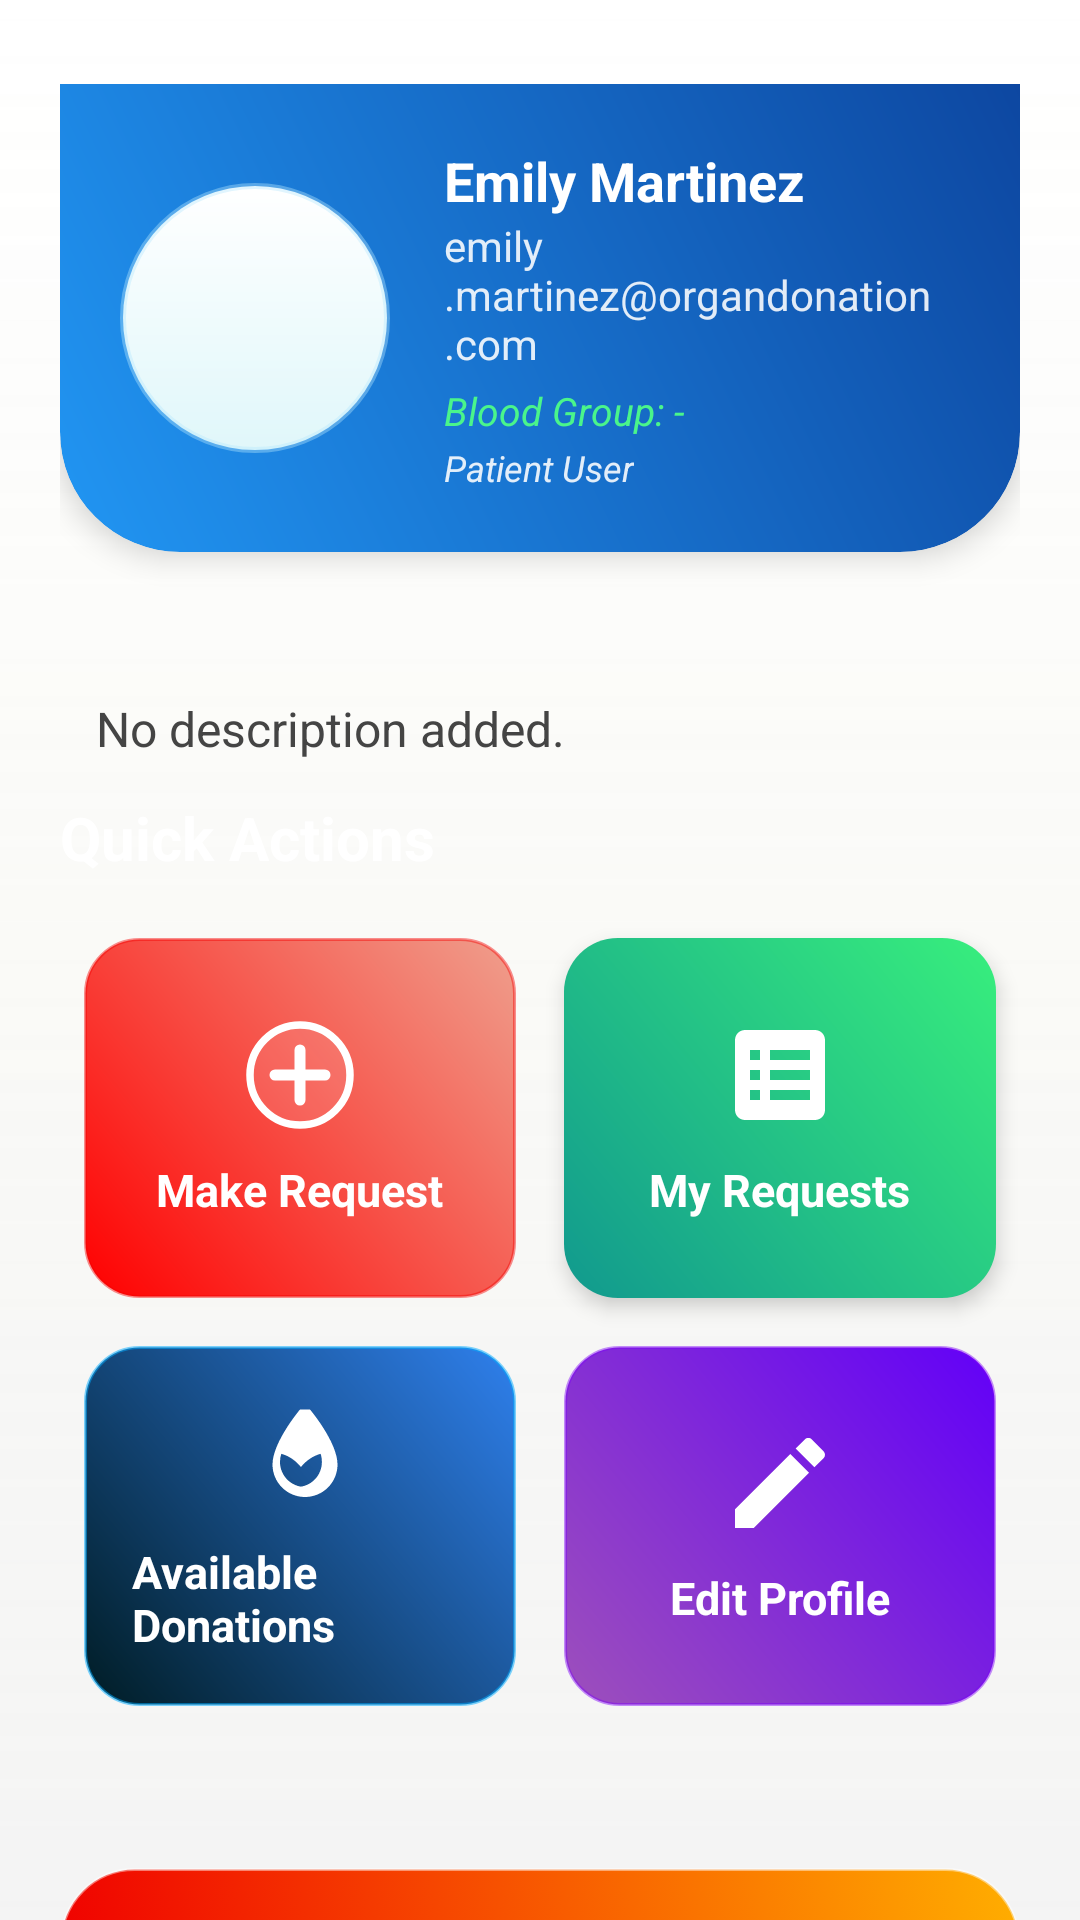

Where to tap for icons on this 1080×1920 app screen, as point (x, y):
add: point (300, 1075)
blood: point (305, 1453)
